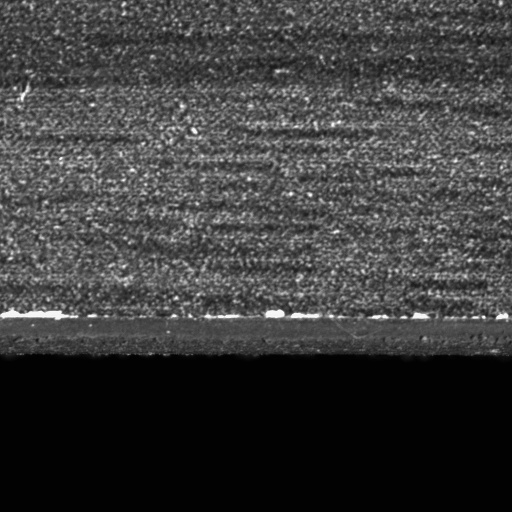huashang: (5, 308, 72, 321), (262, 309, 320, 321)
